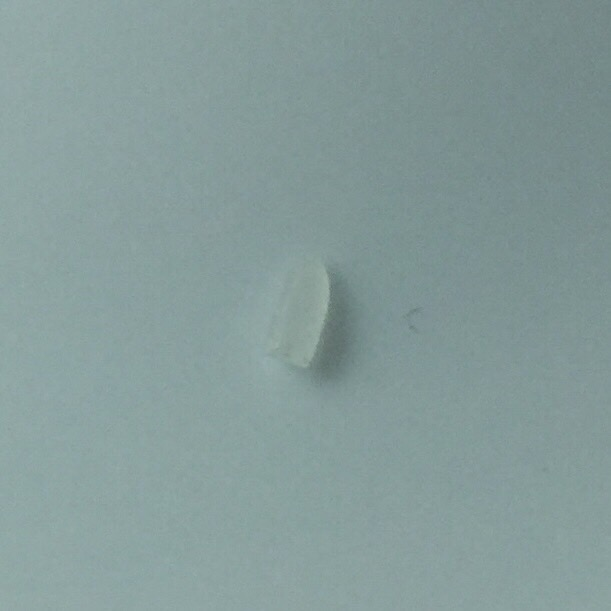Gao Tam: (270, 254, 333, 378)
